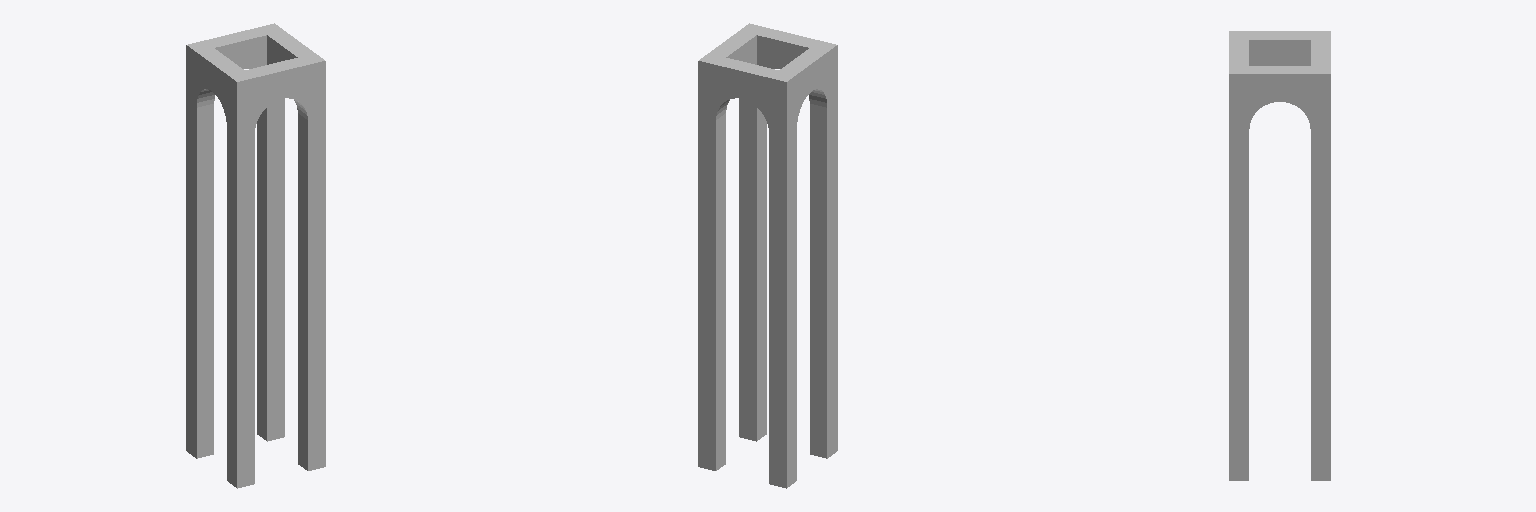
Rendered from Arc.obj.
The picture shows the model from 3 angles: view 1: azimuth 30°, elevation 25°; view 2: azimuth 150°, elevation 25°; view 3: azimuth 270°, elevation 25°; orthographic projection.
Visible parts, largest first — view 1: arcos_8_Untitled.119; view 2: arcos_8_Untitled.119; view 3: arcos_8_Untitled.119.
Boxes of the visible parts, box(x1,y1,x2,y2) form: arcos_8_Untitled.119: box(186, 23, 325, 488); arcos_8_Untitled.119: box(698, 23, 837, 488); arcos_8_Untitled.119: box(1229, 31, 1330, 480).
Size of the model in its own units: 10 by 44.04 by 10.